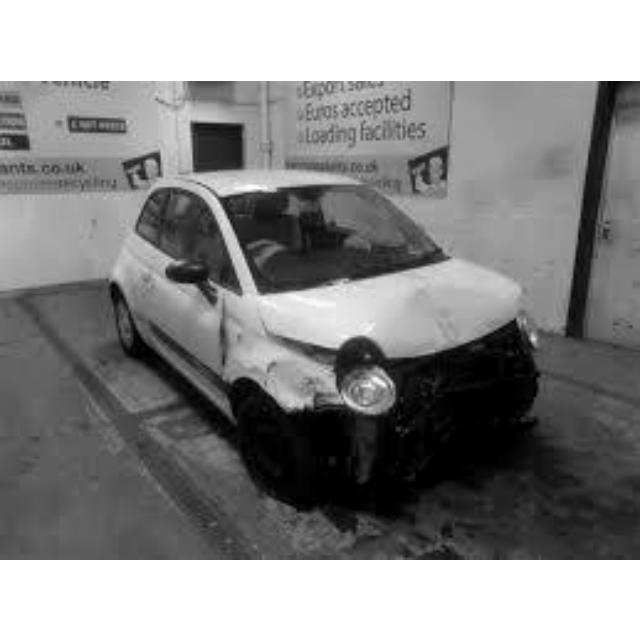fender-dent: (233, 311, 346, 402)
front-bumper-dent: (396, 374, 507, 450)
